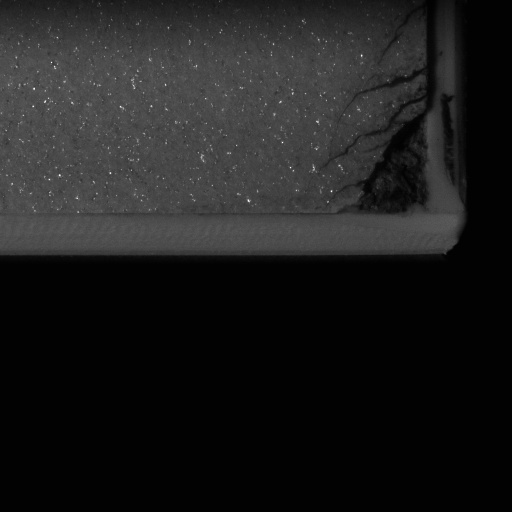bengque: (351, 113, 432, 216)
